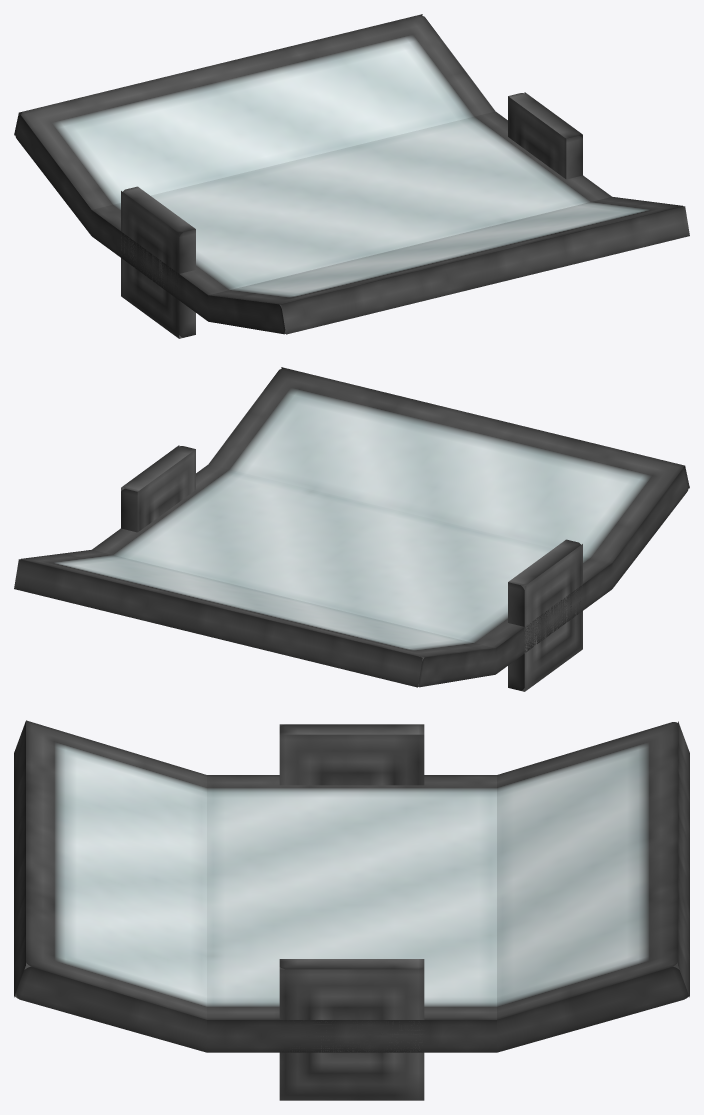
The model's file is solar_reflector_mirror.obj.
3 views of the same model, one above another, from view 1: azimuth 30°, elevation 25°; view 2: azimuth 150°, elevation 25°; view 3: azimuth 270°, elevation 25° (orthographic). The views are drawn at different scales.
Parts seen in each view (by area): view 1: mirror; view 2: mirror; view 3: mirror.
Part boxes in pixels (<box>): mirror: <box>14,14,689,338</box>; mirror: <box>14,367,689,691</box>; mirror: <box>14,720,689,1100</box>.
Size of the model in its own units: 3 by 0.7734 by 3.5.
